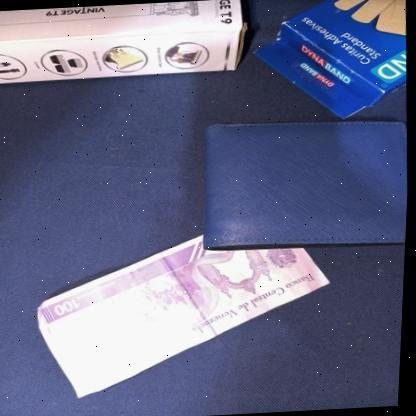one_hundred-back-vef: (32, 225, 339, 400)
